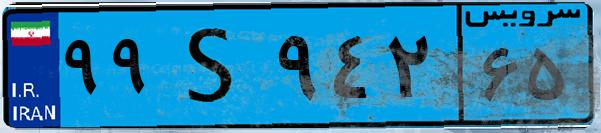2: (385, 28, 445, 110)
4: (330, 28, 385, 110)
5: (525, 38, 570, 115)
6: (475, 38, 525, 113)
9: (270, 28, 330, 110), (57, 26, 110, 100), (110, 28, 158, 98)
S: (158, 12, 270, 120)
